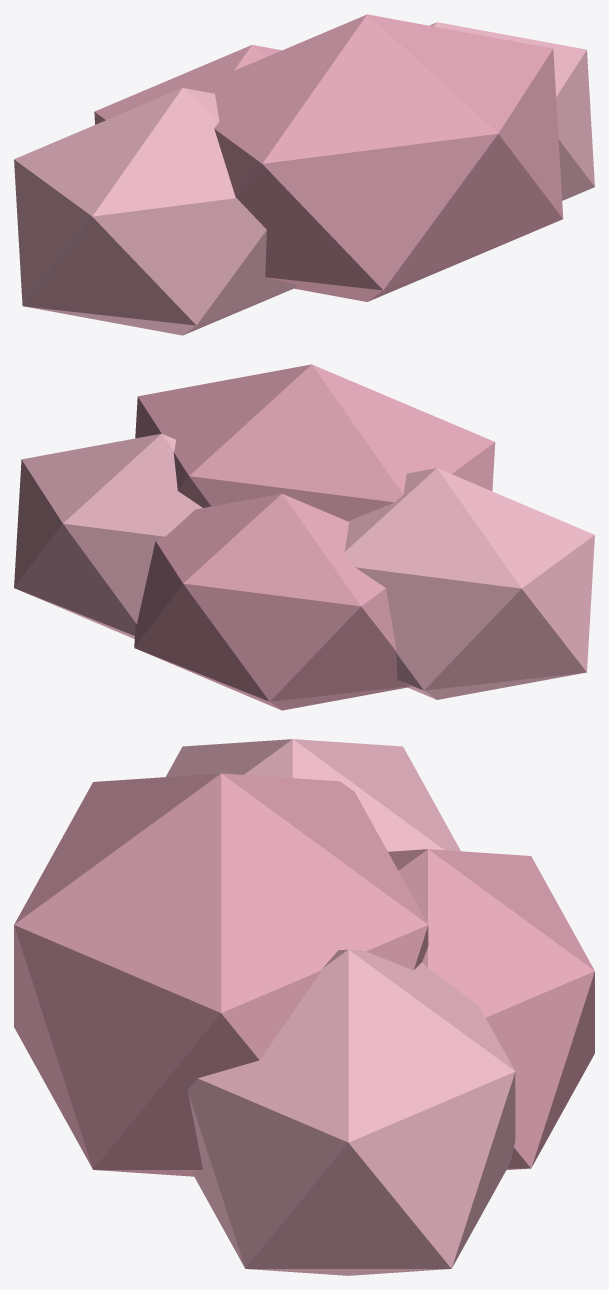
The model's file is bougainvillea-shrub.glb.
3 renders of one model, top to bottom at view 1: azimuth 30°, elevation 25°; view 2: azimuth 150°, elevation 25°; view 3: azimuth 270°, elevation 25°, orthographic. The views are drawn at different scales.
Visible parts, largest first — view 1: shrub_1, shrub_0, shrub_2, shrub_3; view 2: shrub_3, shrub_0, shrub_1, shrub_2; view 3: shrub_1, shrub_2, shrub_3, shrub_0.
Boxes of the visible parts, x1=… form: shrub_1: x1=191, y1=14, x2=563, y2=301; shrub_0: x1=14, y1=88, x2=298, y2=335; shrub_2: x1=429, y1=22, x2=594, y2=200; shrub_3: x1=94, y1=45, x2=281, y2=124; shrub_3: x1=134, y1=493, x2=411, y2=710; shrub_0: x1=344, y1=468, x2=594, y2=699; shrub_1: x1=135, y1=364, x2=495, y2=521; shrub_2: x1=14, y1=433, x2=202, y2=638; shrub_1: x1=14, y1=773, x2=428, y2=1176; shrub_2: x1=187, y1=949, x2=515, y2=1275; shrub_3: x1=388, y1=849, x2=594, y2=1170; shrub_0: x1=166, y1=739, x2=460, y2=851.
Bounding box in the file's own units: 2.39 × 1.19 × 1.46.
